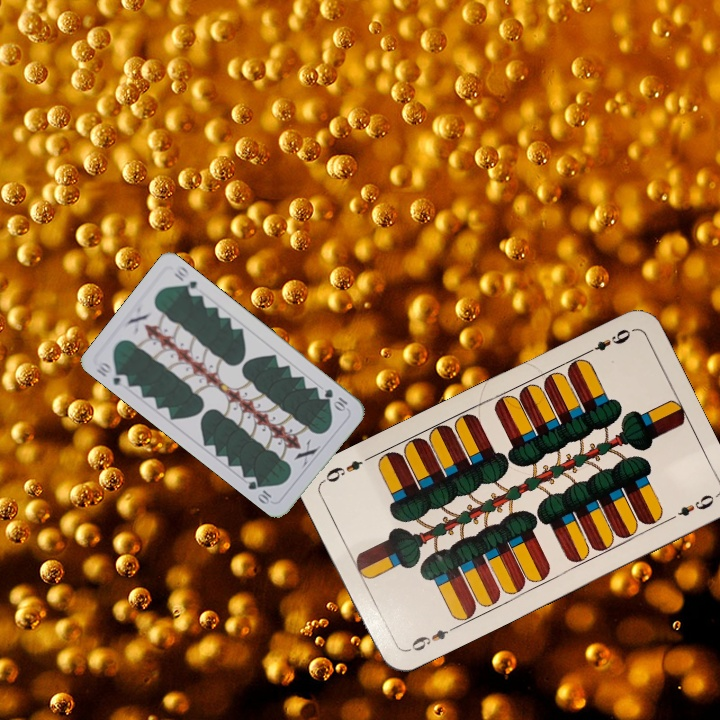E9: (402, 622, 458, 655), (580, 324, 634, 358)
G10: (92, 358, 131, 388), (320, 385, 350, 414)
